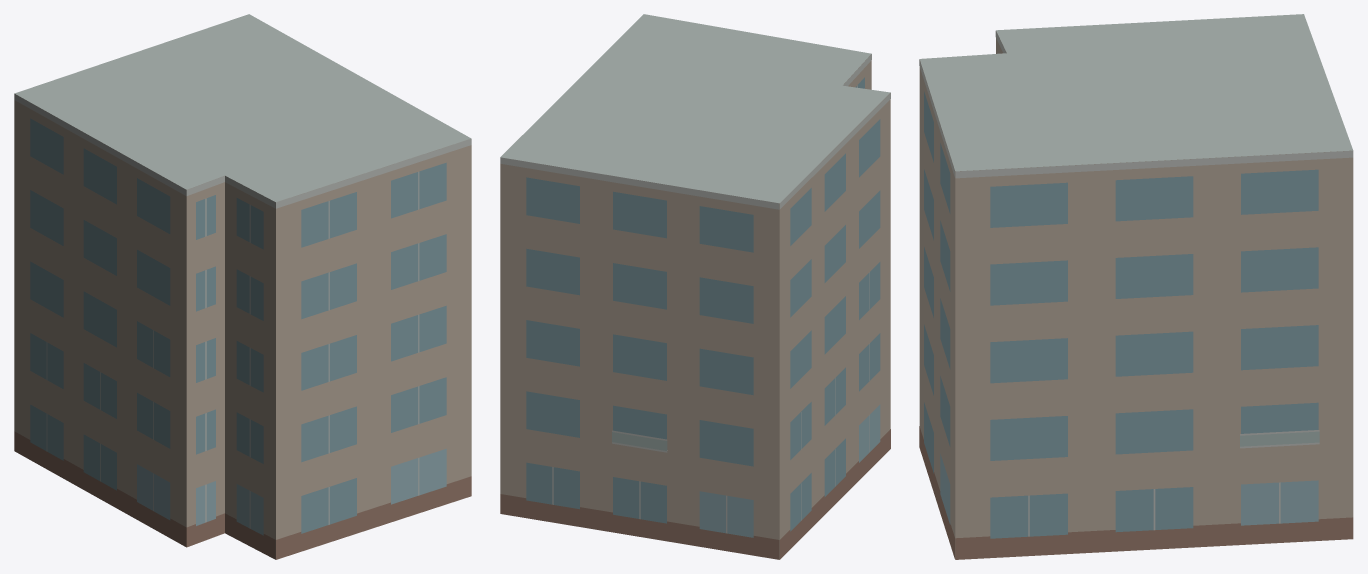
Rendered from survey-upis-32655155.glb.
3 views of the same model, side by side, from view 1: azimuth 30°, elevation 25°; view 2: azimuth 150°, elevation 25°; view 3: azimuth 270°, elevation 25° (orthographic). The views are drawn at different scales.
Parts seen in each view (by area): view 1: survey-upis-32655155.tmp; view 2: survey-upis-32655155.tmp; view 3: survey-upis-32655155.tmp.
Boxes of the visible parts, x1=… form: survey-upis-32655155.tmp: x1=14, y1=14, x2=471, y2=559; survey-upis-32655155.tmp: x1=500, y1=14, x2=890, y2=559; survey-upis-32655155.tmp: x1=919, y1=14, x2=1353, y2=559.
Bounding box in the file's own units: 11.74 × 13.5 × 13.67.
